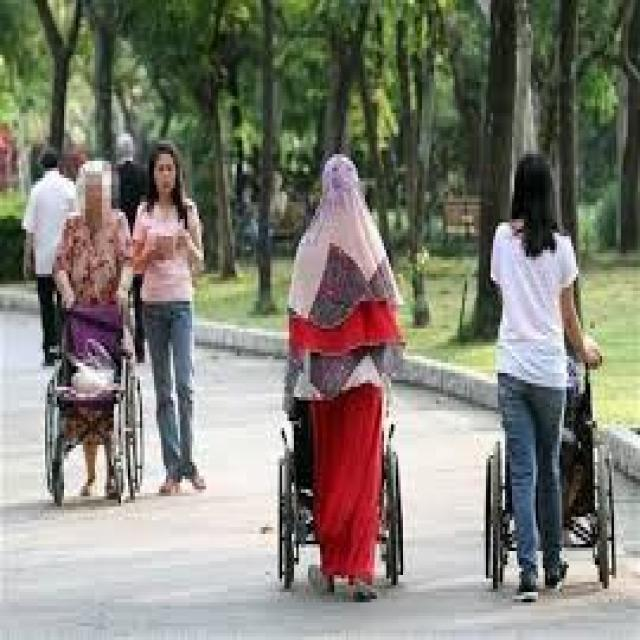wheelchairs: (469, 335, 626, 599), (263, 353, 413, 592), (36, 294, 152, 500)
